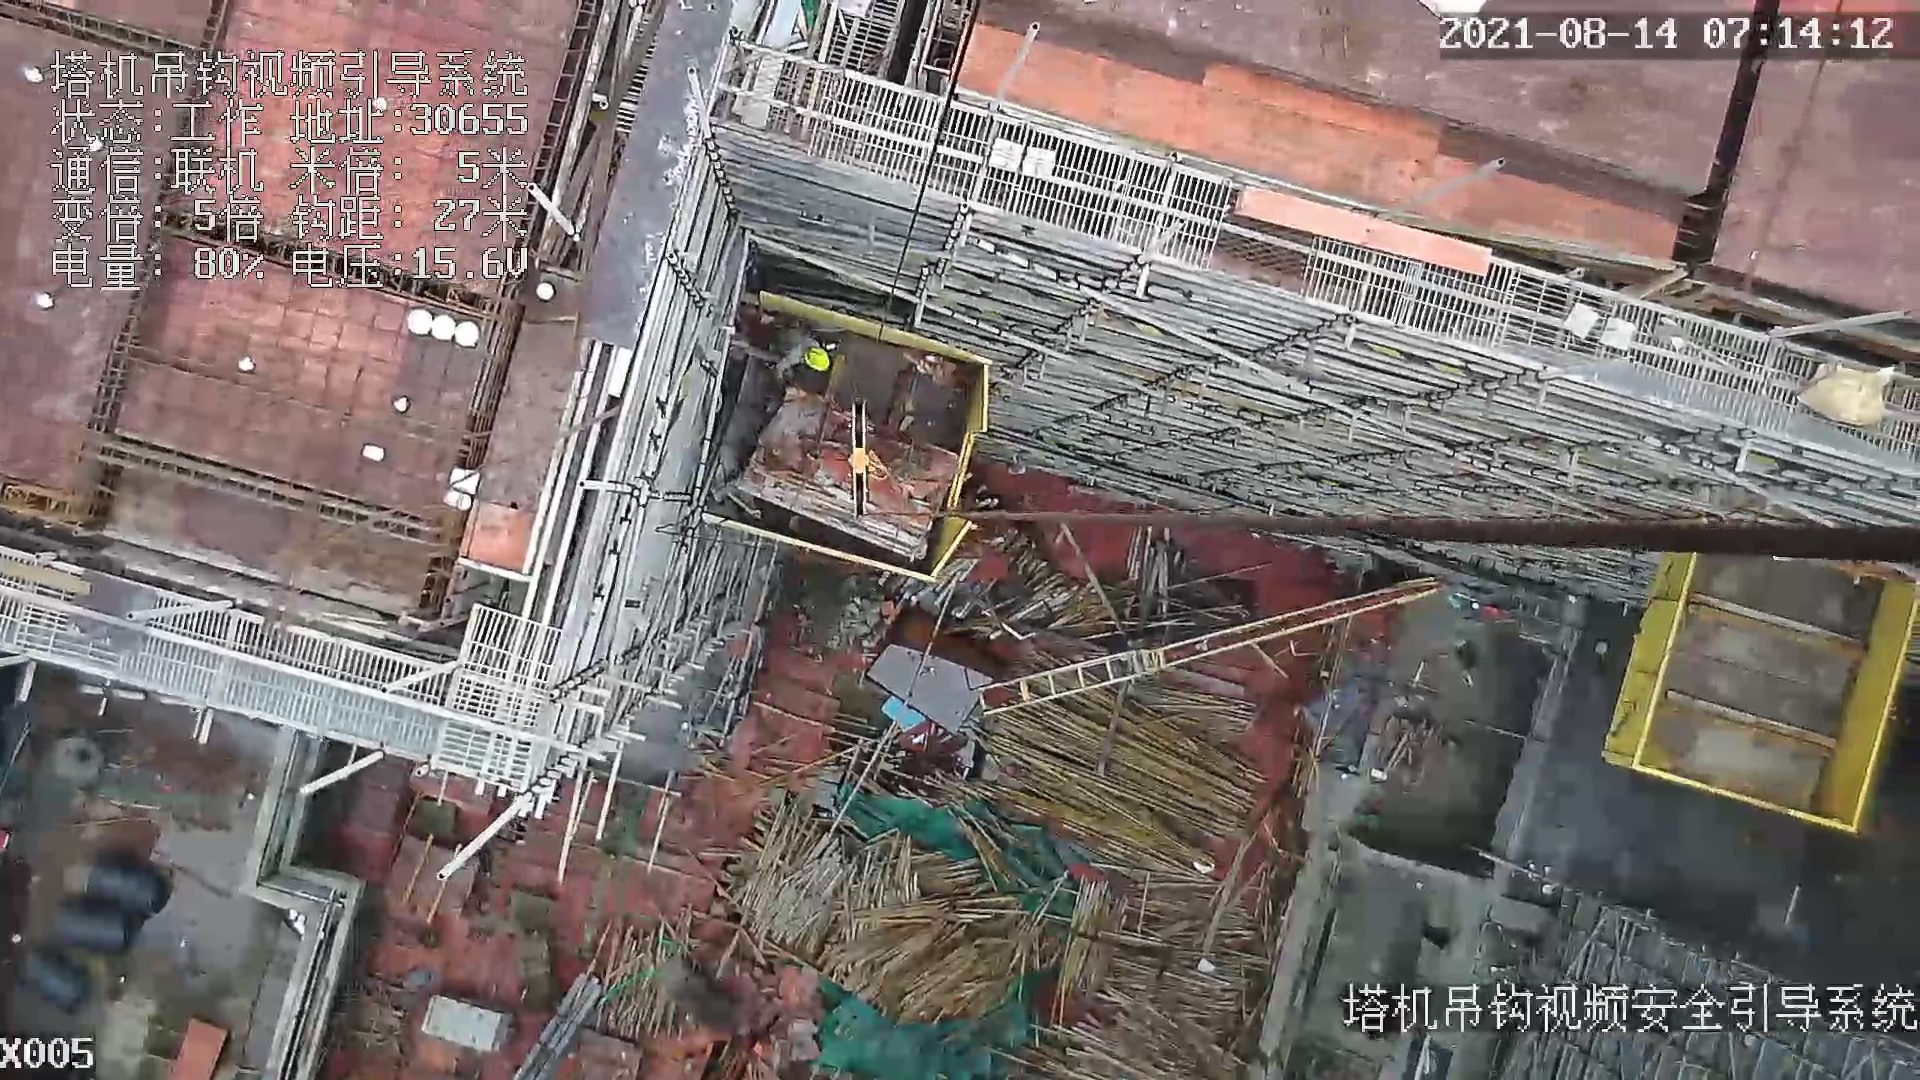helmet: (806, 342, 830, 371)
hook: (844, 396, 895, 535)
person: (742, 309, 832, 374)
